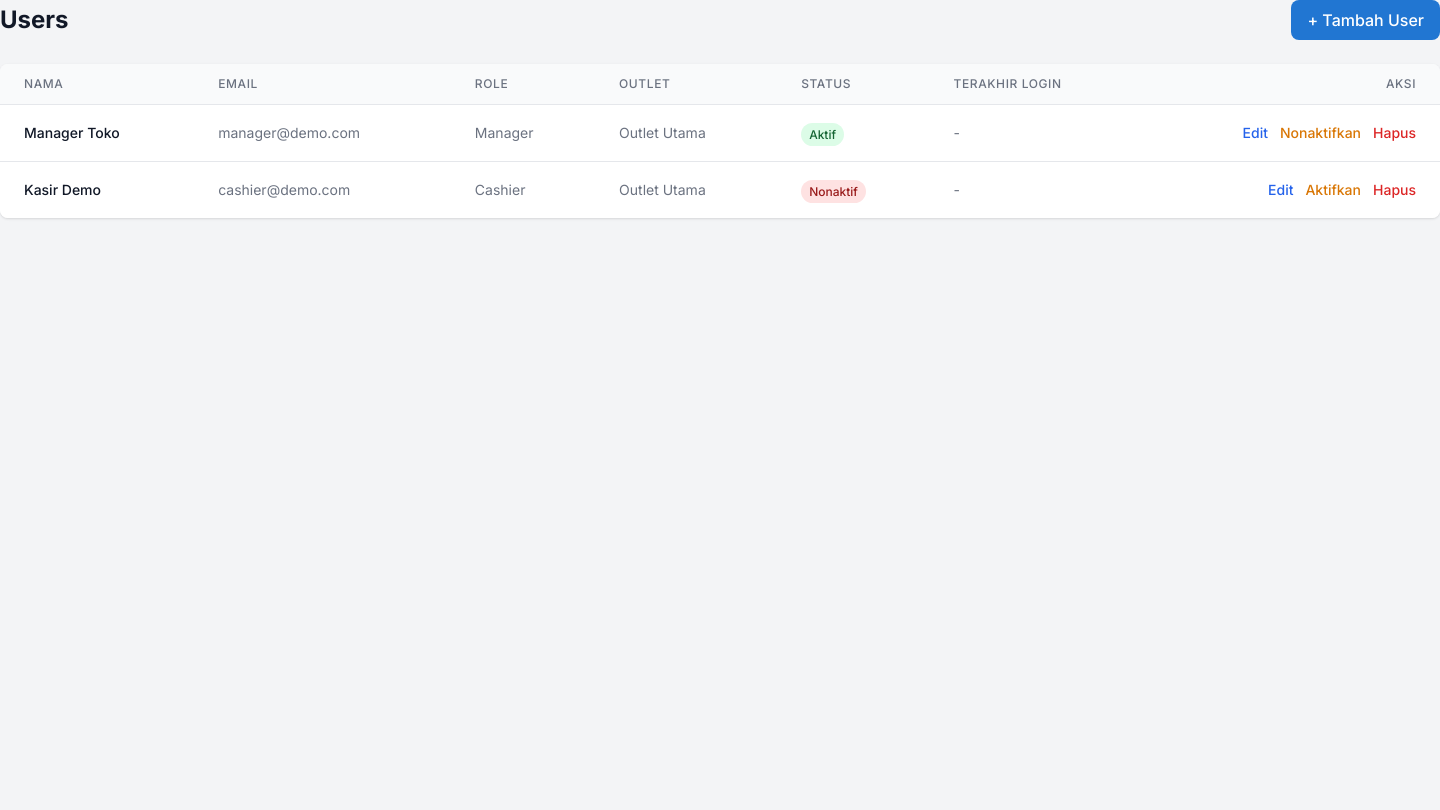
Test: UserListPage › shows PIN field for user with void permission
This screenshot has width=1440, height=810.
What coordinates should you click on to do the following:
click the button "Edit" in the row of "Manager Toko"
I would click on:
 (1255, 133)
Its box is [1243,123,1268,143].
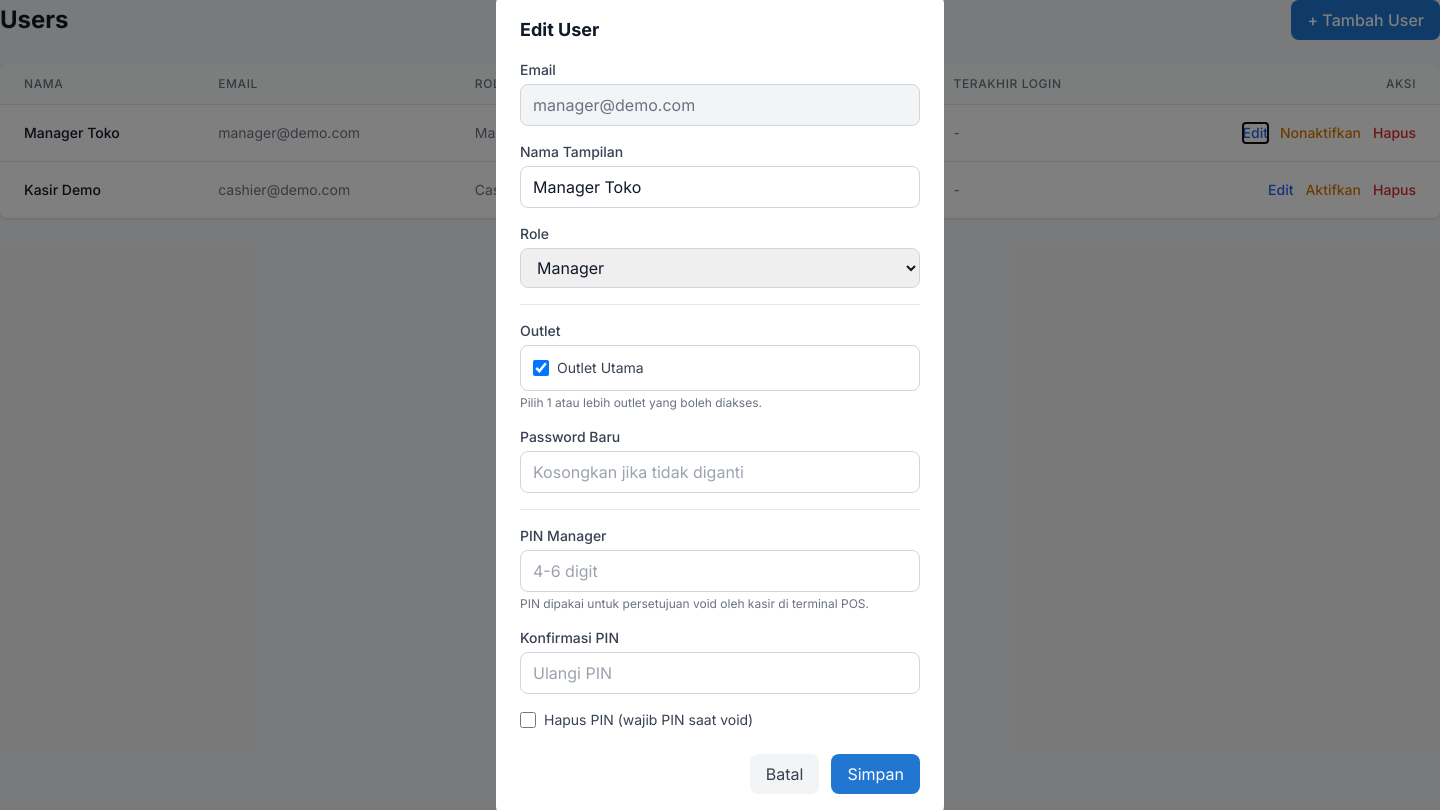
Now the password field with placeholder "4-6 digit" is shown, box [520,550,920,592]
Now the text "PIN dipakai untuk persetujuan void" is shown, box [520,596,869,611]
